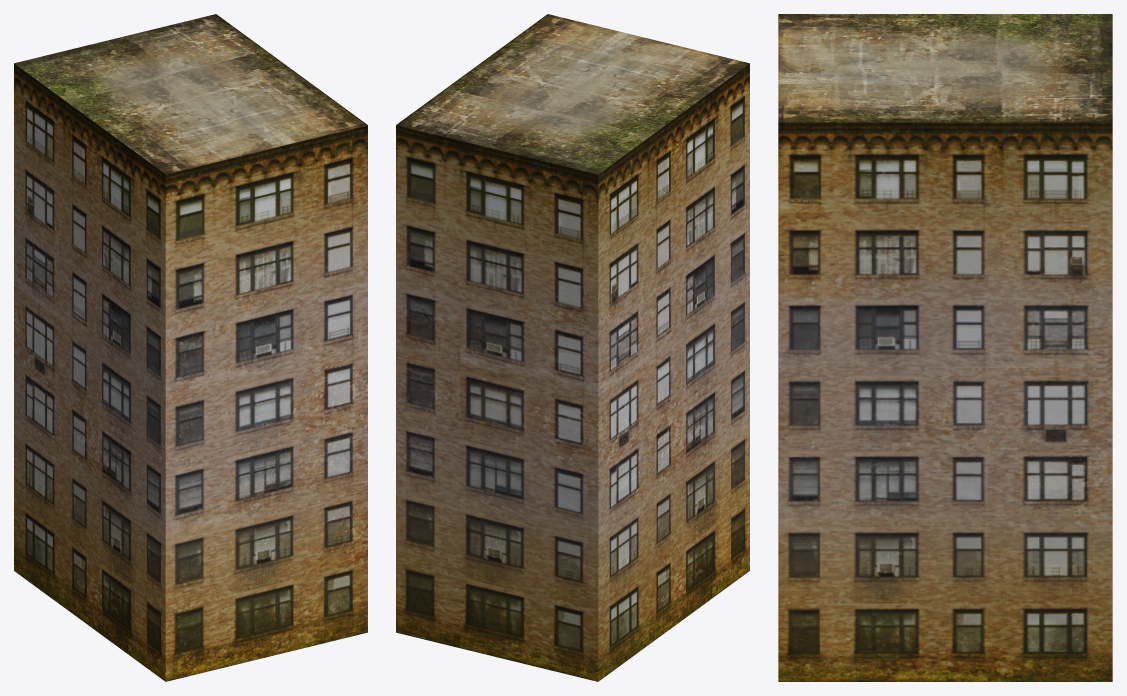
The model's file is LOD_Building_2.fbx.
3 renders of one model, left to right at view 1: azimuth 30°, elevation 25°; view 2: azimuth 150°, elevation 25°; view 3: azimuth 270°, elevation 25°, orthographic. The views are drawn at different scales.
Visible parts, largest first — view 1: Cube; view 2: Cube; view 3: Cube.
Part boxes in pixels (x1,y1,x2,y2): Cube: (14,14,367,681); Cube: (396,14,749,681); Cube: (778,14,1112,681).
Bounding box in the file's own units: 500 × 1200 × 650.
